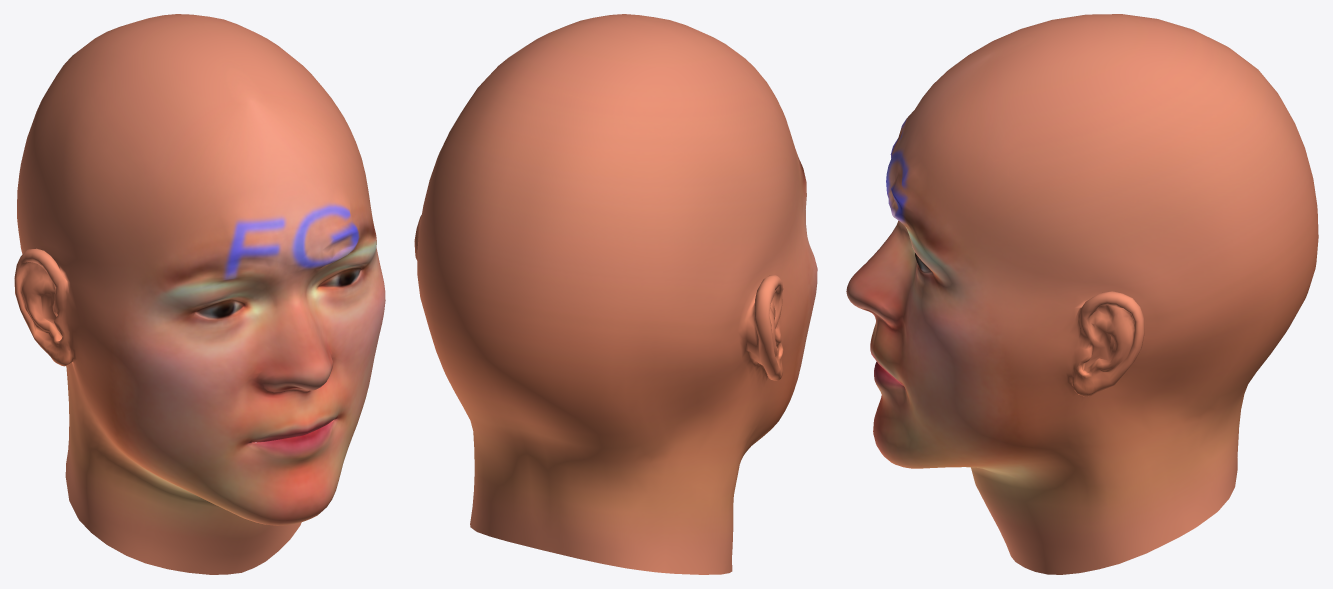
The model's file is random_anyrace_anysex_14.obj.
3 views of the same model, side by side, from view 1: azimuth 30°, elevation 25°; view 2: azimuth 150°, elevation 25°; view 3: azimuth 270°, elevation 25° (orthographic). The views are drawn at different scales.
Parts seen in each view (by area): view 1: HeadHires; view 2: HeadHires; view 3: HeadHires.
Boxes of the visible parts, left/top/right/bottom form: HeadHires: left=14, top=14, right=385, bottom=574; HeadHires: left=414, top=14, right=817, bottom=574; HeadHires: left=846, top=14, right=1318, bottom=574.
Size of the model in its own units: 193 by 283 by 232.
Materials: 1 (1 with a texture image).
